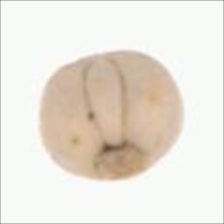L5: (80, 55, 132, 147), (91, 140, 162, 182)
L6: (38, 49, 186, 182)
